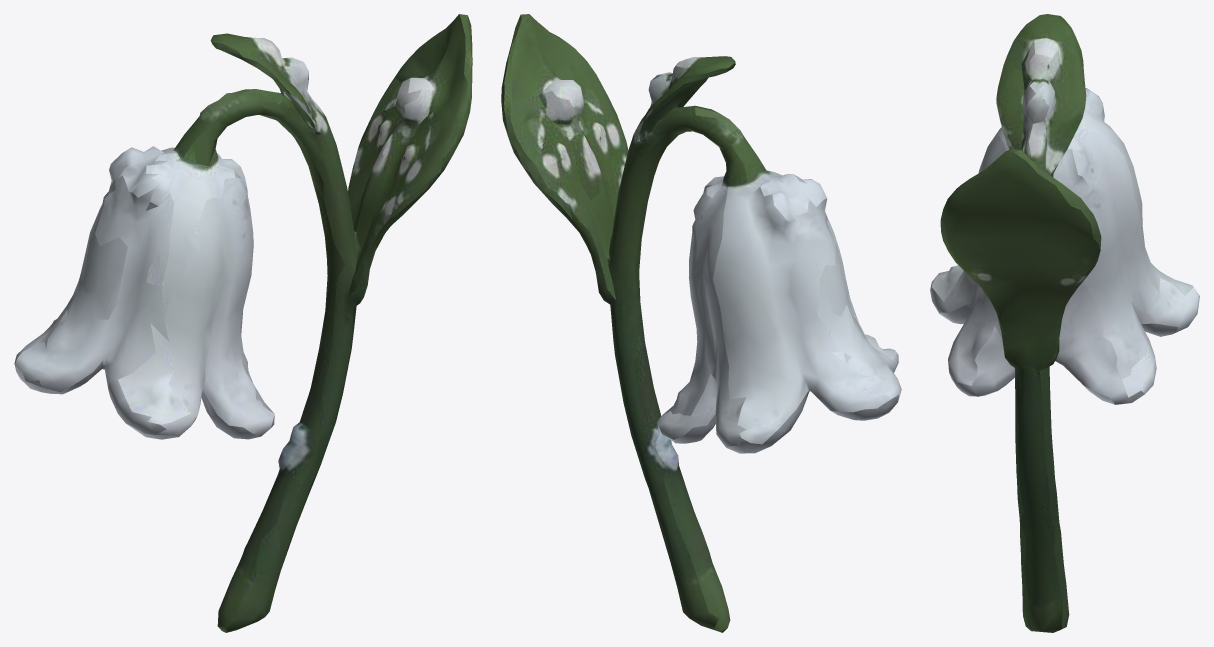
File: snowbell.glb
3 renders of one model, left to right at view 1: azimuth 30°, elevation 25°; view 2: azimuth 150°, elevation 25°; view 3: azimuth 270°, elevation 25°, orthographic. The views are drawn at different scales.
Visible parts, largest first — view 1: snowbell; view 2: snowbell; view 3: snowbell.
Part boxes in pixels (x1,y1,x2,y2): snowbell: (14, 14, 472, 632); snowbell: (501, 14, 901, 632); snowbell: (930, 14, 1199, 632).
Size of the model in its own units: 0.7394 by 1 by 0.4011.
Materials: 1 (1 with a texture image).
